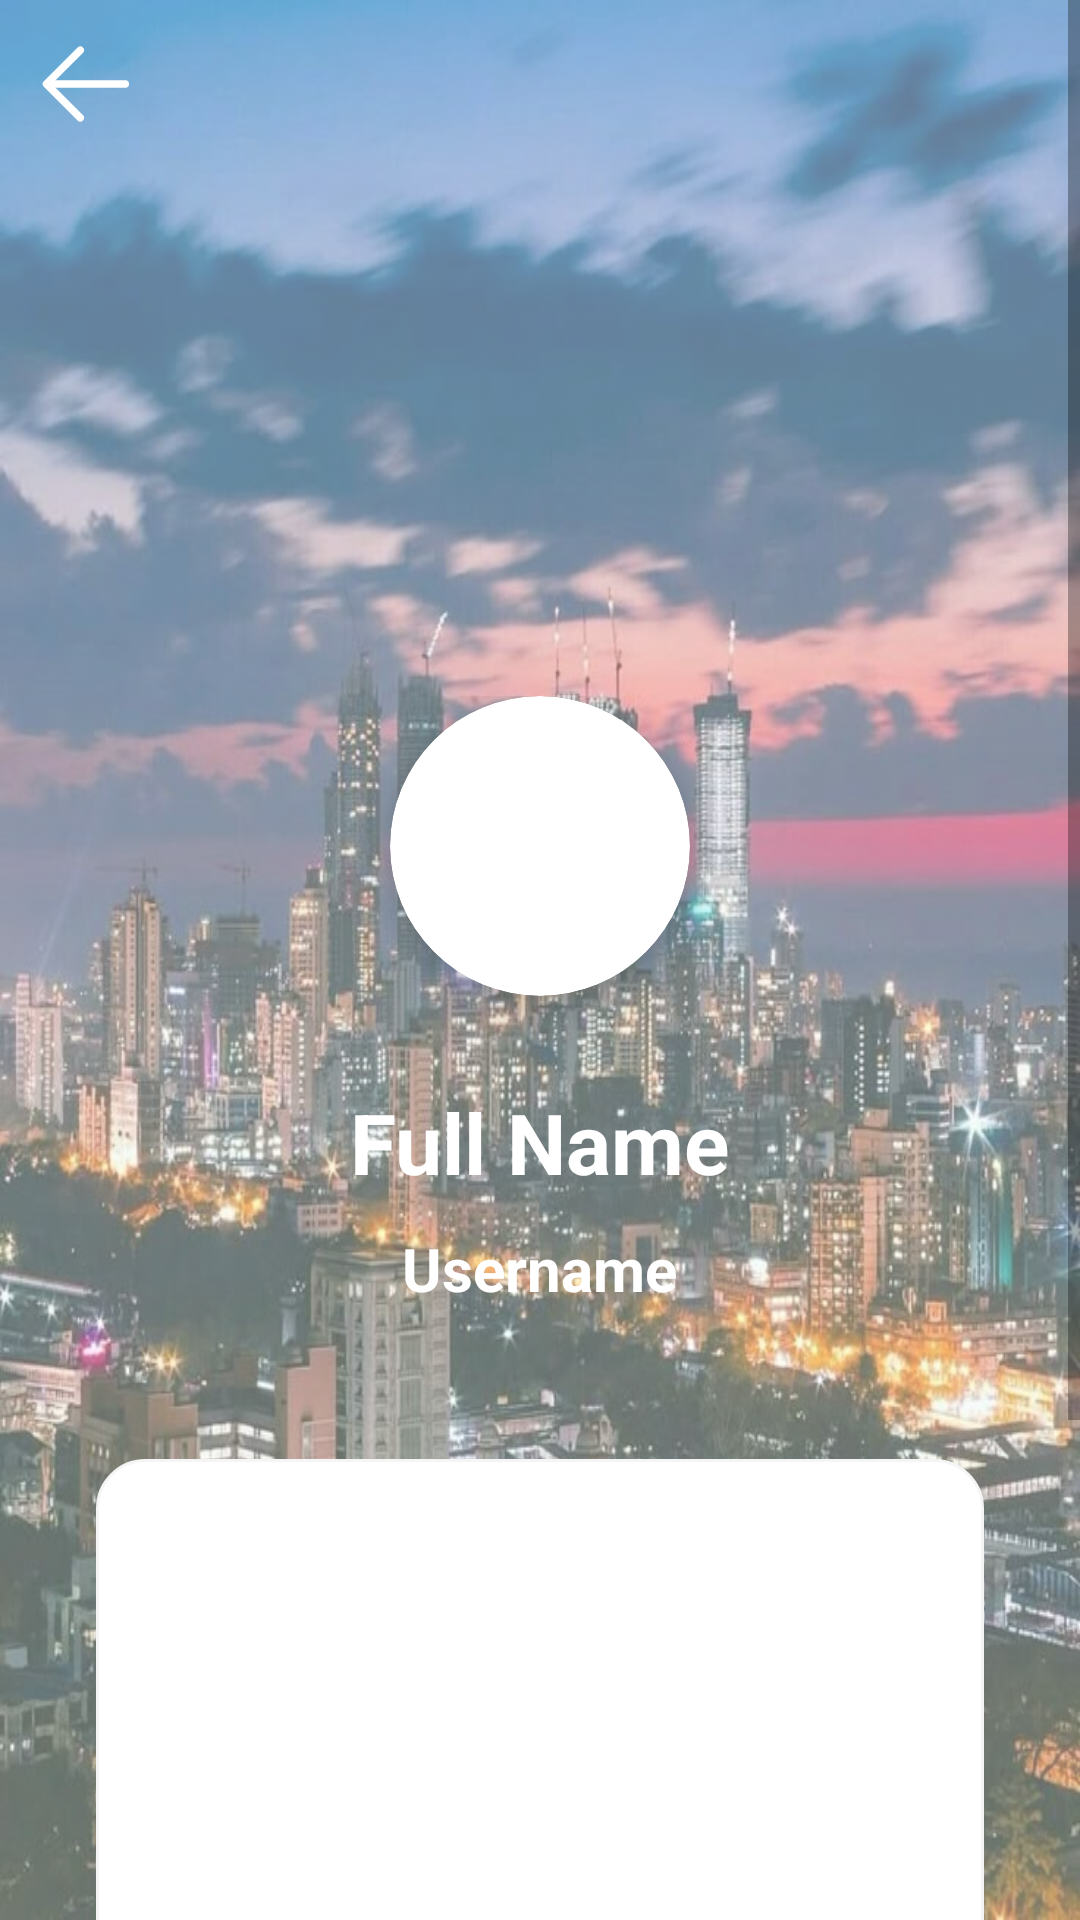

Icon click points for this 1080x1920 phone screenshot, format point (x, y):
back: point (84, 84)
